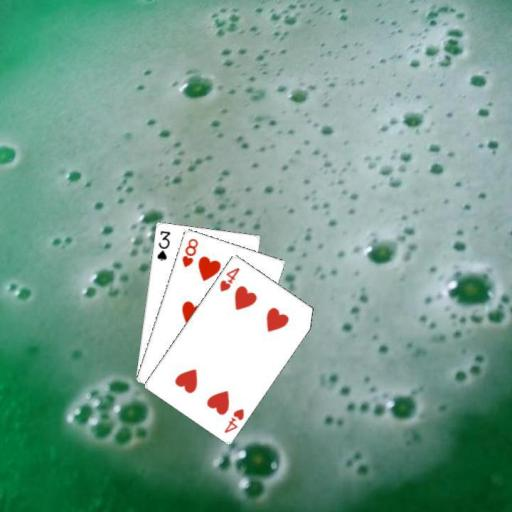3S: (154, 228, 172, 262)
4H: (216, 264, 241, 293), (221, 405, 245, 435)
8H: (179, 235, 199, 269)
